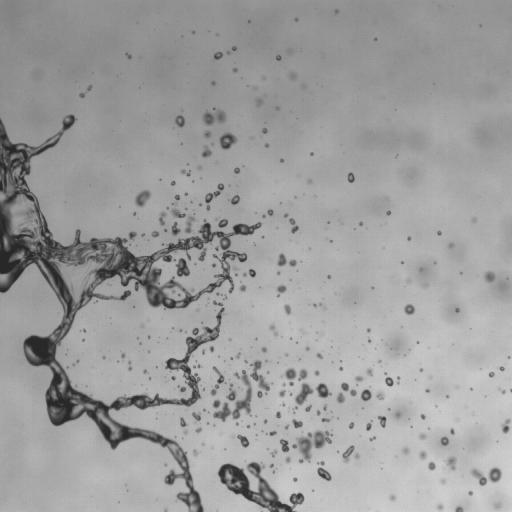droplet: (291, 429, 333, 463), (470, 466, 502, 486), (202, 107, 226, 125), (219, 132, 237, 149), (134, 189, 151, 207), (276, 253, 297, 267), (441, 456, 457, 473), (317, 467, 331, 481), (237, 433, 250, 447), (214, 216, 229, 228), (289, 218, 300, 233), (360, 388, 372, 401), (170, 221, 180, 236), (500, 418, 510, 433), (279, 438, 289, 453), (483, 270, 495, 282), (158, 211, 167, 226), (174, 115, 185, 127), (201, 145, 212, 157), (227, 195, 240, 205), (276, 284, 286, 297), (404, 304, 415, 315), (213, 124, 224, 135), (7, 132, 18, 143), (31, 136, 42, 147), (210, 142, 221, 153), (28, 155, 39, 166), (164, 214, 175, 225), (261, 217, 272, 228), (189, 226, 200, 237), (230, 233, 241, 244), (59, 235, 70, 246), (150, 240, 161, 251), (227, 257, 238, 268), (26, 262, 37, 273), (95, 282, 106, 293), (46, 288, 57, 299), (84, 299, 95, 310), (54, 307, 65, 318), (74, 308, 85, 319), (71, 316, 82, 327), (37, 327, 48, 338), (53, 349, 64, 360), (232, 360, 243, 371), (39, 364, 50, 375), (196, 367, 207, 378), (65, 368, 76, 379), (307, 376, 318, 387), (328, 383, 339, 394), (216, 389, 227, 400), (199, 391, 210, 402), (307, 391, 318, 402), (325, 394, 336, 405), (191, 400, 202, 411), (179, 405, 190, 416), (201, 411, 212, 422), (281, 412, 292, 423), (125, 417, 136, 428), (415, 420, 426, 431), (89, 424, 100, 435), (126, 436, 137, 447), (414, 439, 425, 450), (441, 446, 452, 457), (289, 447, 300, 458), (236, 459, 247, 470), (446, 470, 457, 481), (174, 478, 185, 489), (278, 492, 289, 503), (335, 391, 345, 403), (377, 416, 387, 428), (242, 268, 255, 277), (354, 375, 364, 386), (291, 418, 302, 428), (192, 411, 201, 423), (283, 304, 292, 315), (238, 280, 246, 292), (375, 390, 384, 400), (440, 436, 449, 446), (418, 450, 427, 460), (180, 169, 191, 177), (211, 133, 220, 142), (175, 173, 184, 182), (28, 184, 37, 193), (172, 184, 181, 193), (176, 218, 185, 227), (209, 222, 218, 231), (223, 224, 232, 233), (177, 230, 186, 239), (51, 232, 60, 241), (79, 233, 88, 242), (169, 234, 178, 243), (240, 261, 249, 270), (142, 339, 151, 348), (310, 343, 319, 352), (191, 348, 200, 357), (255, 351, 264, 360), (132, 364, 141, 373), (250, 380, 259, 389), (292, 384, 301, 393), (269, 385, 278, 394), (182, 389, 191, 398), (173, 390, 182, 399), (235, 391, 244, 400), (286, 396, 295, 405), (184, 414, 193, 423), (371, 419, 380, 428), (89, 422, 98, 431), (317, 422, 326, 431), (308, 445, 317, 454), (410, 448, 419, 457), (276, 450, 285, 459), (213, 51, 223, 59), (365, 367, 373, 377), (391, 411, 401, 419), (288, 72, 297, 80), (255, 97, 263, 106), (203, 130, 212, 138), (428, 461, 436, 470), (347, 172, 354, 182), (505, 360, 511, 371), (178, 505, 189, 511), (292, 505, 303, 511), (443, 505, 454, 511), (278, 389, 286, 397), (493, 501, 501, 509), (418, 432, 427, 439), (402, 446, 409, 455), (436, 502, 443, 511), (267, 209, 274, 217), (151, 230, 159, 237), (497, 387, 505, 394), (270, 449, 277, 457), (388, 494, 396, 501), (439, 478, 448, 484), (454, 505, 463, 511), (316, 352, 323, 359), (274, 411, 281, 418), (192, 449, 199, 456), (353, 452, 360, 459), (255, 90, 262, 97), (84, 91, 91, 98), (216, 103, 223, 110), (224, 112, 231, 119), (206, 124, 213, 131), (229, 128, 236, 135), (203, 137, 210, 144), (214, 141, 221, 148), (188, 163, 195, 170), (134, 187, 141, 194), (144, 198, 151, 205), (134, 205, 141, 212), (39, 206, 46, 213), (155, 224, 162, 231), (144, 228, 151, 235), (121, 231, 128, 238), (95, 232, 102, 239), (132, 250, 139, 257), (272, 254, 279, 261), (284, 254, 291, 261), (488, 265, 495, 272), (478, 270, 485, 277), (19, 271, 26, 278), (493, 273, 500, 280), (478, 275, 485, 282), (128, 278, 135, 285), (277, 278, 284, 285), (222, 279, 229, 286), (488, 280, 495, 287), (233, 281, 240, 288), (138, 285, 145, 292), (200, 292, 207, 299), (188, 300, 195, 307), (54, 318, 61, 325), (208, 321, 215, 328), (197, 327, 204, 334), (22, 331, 29, 338), (139, 334, 146, 341), (298, 341, 305, 348), (309, 348, 316, 355), (177, 352, 184, 359), (186, 360, 193, 367), (286, 361, 293, 368), (363, 361, 370, 368), (279, 366, 286, 373), (245, 367, 252, 374), (493, 368, 500, 375), (306, 369, 313, 376), (359, 370, 366, 377), (263, 376, 270, 383), (284, 384, 291, 391), (355, 387, 362, 394), (135, 388, 142, 395), (369, 388, 376, 395), (126, 390, 133, 397), (342, 390, 349, 397), (250, 391, 257, 398), (91, 393, 98, 400), (208, 395, 215, 402), (318, 396, 325, 403), (104, 398, 111, 405), (302, 399, 309, 406), (40, 401, 47, 408), (159, 403, 166, 410), (129, 404, 136, 411), (145, 405, 152, 412), (238, 407, 245, 414), (309, 407, 316, 414), (107, 408, 114, 415), (320, 410, 327, 417), (81, 412, 88, 419), (400, 412, 407, 419), (225, 414, 232, 421), (255, 417, 262, 424), (498, 417, 505, 424), (44, 418, 51, 425), (198, 419, 205, 426), (63, 420, 70, 427), (309, 426, 316, 433), (366, 429, 373, 436), (162, 431, 169, 438), (273, 433, 280, 440), (103, 440, 110, 447), (118, 440, 125, 447), (153, 441, 160, 448), (161, 446, 168, 453), (396, 449, 403, 456), (185, 452, 192, 459), (253, 456, 260, 463), (422, 458, 429, 465), (454, 460, 461, 467), (213, 463, 220, 470), (175, 466, 182, 473), (188, 466, 195, 473), (499, 466, 506, 473), (242, 468, 249, 475), (259, 470, 266, 477), (482, 470, 489, 477), (472, 476, 479, 483), (485, 479, 492, 486), (268, 481, 275, 488), (236, 493, 243, 500), (199, 498, 206, 505), (248, 500, 255, 507), (285, 455, 291, 463), (125, 52, 131, 59), (261, 128, 267, 135), (211, 262, 217, 269), (405, 277, 411, 284), (176, 327, 183, 333), (261, 346, 267, 353), (305, 404, 311, 411), (348, 422, 354, 429), (195, 427, 202, 433), (209, 345, 214, 353), (234, 167, 240, 173), (448, 242, 454, 248), (488, 371, 494, 377), (279, 401, 285, 407), (0, 191, 4, 200), (498, 366, 505, 371), (396, 376, 400, 384), (323, 403, 327, 411), (276, 54, 281, 60), (196, 165, 202, 170), (471, 217, 476, 223), (422, 283, 428, 288), (143, 369, 149, 374), (314, 370, 319, 376), (420, 413, 425, 419), (229, 434, 235, 439), (369, 436, 375, 441), (450, 427, 454, 434), (317, 461, 324, 465), (507, 421, 511, 428), (202, 507, 209, 511), (496, 507, 503, 511), (334, 9, 339, 14), (232, 67, 237, 72), (264, 143, 269, 148), (307, 179, 312, 184), (170, 180, 175, 185), (386, 210, 391, 215), (358, 221, 363, 226), (276, 270, 281, 275), (326, 274, 331, 279), (305, 346, 310, 351), (171, 375, 176, 380), (425, 388, 430, 393), (454, 417, 459, 422), (284, 424, 289, 429), (292, 477, 297, 482), (468, 490, 473, 495), (230, 41, 235, 46), (221, 49, 226, 54), (222, 52, 227, 57), (217, 57, 222, 62), (227, 67, 232, 72), (234, 71, 239, 76), (80, 87, 85, 92), (77, 96, 82, 101), (68, 109, 73, 114), (209, 109, 214, 114), (176, 110, 181, 115), (181, 112, 186, 117), (171, 113, 176, 118), (1, 119, 6, 124), (183, 120, 188, 125), (58, 122, 63, 127), (173, 123, 178, 128), (264, 123, 269, 128), (69, 124, 74, 129), (257, 126, 262, 131), (59, 135, 64, 140), (229, 143, 234, 148), (208, 145, 213, 150), (45, 147, 50, 152), (199, 147, 204, 152), (223, 148, 228, 153), (41, 150, 46, 155), (204, 155, 209, 160), (29, 167, 34, 172), (239, 167, 244, 172), (343, 170, 348, 175), (23, 174, 28, 179), (187, 175, 192, 180), (194, 177, 199, 182), (219, 189, 224, 194), (179, 193, 184, 198), (228, 193, 233, 198), (170, 196, 175, 201), (193, 200, 198, 205), (208, 200, 213, 205), (202, 201, 207, 206), (168, 204, 173, 209), (266, 204, 271, 209), (179, 208, 184, 213), (184, 209, 189, 214), (162, 216, 167, 221), (174, 216, 179, 221), (258, 217, 263, 222), (154, 219, 159, 224), (234, 219, 239, 224), (199, 220, 204, 225), (294, 220, 299, 225), (246, 221, 251, 226), (175, 223, 180, 228), (288, 223, 293, 228), (46, 224, 51, 229), (356, 225, 361, 230), (219, 226, 224, 231), (127, 227, 132, 232), (166, 227, 171, 232), (253, 228, 258, 233), (186, 232, 191, 237), (245, 233, 250, 238), (110, 234, 115, 239), (133, 235, 138, 240), (228, 235, 233, 240), (172, 239, 177, 244), (227, 245, 232, 250), (146, 250, 151, 255), (225, 256, 230, 261), (233, 256, 238, 261), (294, 256, 299, 261), (294, 263, 299, 268), (291, 265, 296, 270), (237, 270, 242, 275), (228, 271, 233, 276), (245, 273, 250, 278), (40, 276, 45, 281), (104, 277, 109, 282), (123, 285, 128, 290), (285, 285, 290, 290), (213, 286, 218, 291), (244, 287, 249, 292), (92, 288, 97, 293), (273, 289, 278, 294), (118, 290, 123, 295), (240, 290, 245, 295), (104, 291, 109, 296), (279, 291, 284, 296), (226, 292, 231, 297), (125, 295, 130, 300), (90, 296, 95, 301), (107, 298, 112, 303), (407, 299, 412, 304), (401, 301, 406, 306), (413, 304, 418, 309), (215, 305, 220, 310), (315, 305, 320, 310), (458, 305, 463, 310), (289, 306, 294, 311), (399, 306, 404, 311), (165, 307, 170, 312), (170, 307, 175, 312), (280, 308, 285, 313), (413, 308, 418, 313), (212, 310, 217, 315), (402, 312, 407, 317), (287, 313, 292, 318), (408, 313, 413, 318), (220, 315, 225, 320), (265, 321, 270, 326), (218, 324, 223, 329), (274, 326, 279, 331), (68, 327, 73, 332), (268, 329, 273, 334), (367, 331, 372, 336), (80, 332, 85, 337), (190, 333, 195, 338), (291, 336, 296, 341), (60, 338, 65, 343), (197, 344, 202, 349), (265, 344, 270, 349), (256, 346, 261, 351), (116, 354, 121, 359), (239, 354, 244, 359), (21, 355, 26, 360), (163, 355, 168, 360), (123, 356, 128, 361), (314, 356, 319, 361), (248, 358, 253, 363), (23, 359, 28, 364), (336, 361, 341, 366), (130, 362, 135, 367), (61, 363, 66, 368), (30, 364, 35, 369), (217, 366, 222, 371), (64, 368, 69, 373), (178, 368, 183, 373), (190, 368, 195, 373), (255, 369, 260, 374), (318, 369, 323, 374), (371, 369, 376, 374), (237, 371, 242, 376), (143, 373, 148, 378), (214, 374, 219, 379), (223, 376, 228, 381), (247, 376, 252, 381), (391, 376, 396, 381), (291, 377, 296, 382), (284, 378, 289, 383), (300, 378, 305, 383), (212, 379, 217, 384), (196, 381, 201, 386), (69, 382, 74, 387), (218, 382, 223, 387), (424, 383, 429, 388), (242, 384, 247, 389), (363, 384, 368, 389), (231, 385, 236, 390), (278, 385, 283, 390), (338, 387, 343, 392), (197, 388, 202, 393), (225, 389, 230, 394), (505, 389, 510, 394), (496, 390, 501, 395), (284, 391, 289, 396), (149, 393, 154, 398), (158, 393, 163, 398), (278, 396, 283, 401), (195, 398, 200, 403), (365, 399, 370, 404), (335, 401, 340, 406), (340, 401, 345, 406), (180, 403, 185, 408), (326, 405, 331, 410), (119, 406, 124, 411), (390, 408, 395, 413), (249, 409, 254, 414), (332, 411, 337, 416), (379, 411, 384, 416), (295, 416, 300, 421), (216, 417, 221, 422), (235, 417, 240, 422), (175, 418, 180, 423), (384, 419, 389, 424), (344, 421, 349, 426), (289, 422, 294, 427), (178, 425, 183, 430), (369, 426, 374, 431), (497, 426, 502, 431), (255, 428, 260, 433), (424, 429, 429, 434), (302, 432, 307, 437), (446, 433, 451, 438), (246, 435, 251, 440), (174, 437, 179, 442), (235, 438, 240, 443), (436, 440, 441, 445), (447, 440, 452, 445), (323, 441, 328, 446), (286, 442, 291, 447), (277, 443, 282, 448), (407, 444, 412, 449), (181, 446, 186, 451), (340, 447, 345, 452), (282, 451, 287, 456), (337, 452, 342, 457), (349, 452, 354, 457), (357, 457, 362, 462), (246, 458, 251, 463), (222, 459, 227, 464), (302, 459, 307, 464), (433, 460, 438, 465), (342, 462, 347, 467), (489, 463, 494, 468), (321, 464, 326, 469), (496, 464, 501, 469), (164, 469, 169, 474), (449, 469, 454, 474), (441, 473, 446, 478), (215, 475, 220, 480), (320, 477, 325, 482), (498, 477, 503, 482), (165, 483, 170, 488), (221, 483, 226, 488), (481, 484, 486, 489), (193, 485, 198, 490), (184, 487, 189, 492), (293, 489, 298, 494), (391, 489, 396, 494), (301, 490, 306, 495), (171, 494, 176, 499), (394, 497, 399, 502), (302, 498, 307, 503), (385, 498, 390, 503), (434, 499, 439, 504), (180, 501, 185, 506), (287, 501, 292, 506), (455, 307, 459, 313), (316, 409, 320, 415), (226, 50, 231, 54), (283, 213, 288, 217), (437, 230, 441, 235), (407, 236, 411, 241), (432, 260, 436, 265), (177, 293, 182, 297), (284, 352, 289, 356), (338, 366, 343, 370), (281, 382, 286, 386), (455, 384, 459, 389), (246, 423, 250, 428), (219, 431, 223, 436), (294, 17, 298, 21), (373, 37, 377, 41), (232, 46, 236, 50), (211, 81, 215, 85), (301, 84, 305, 88), (275, 106, 279, 110), (210, 142, 214, 146), (309, 152, 313, 156), (280, 158, 284, 162), (184, 192, 188, 196), (133, 211, 137, 215), (163, 228, 167, 232), (141, 233, 145, 237), (370, 286, 374, 290), (140, 323, 144, 327), (366, 328, 370, 332), (377, 359, 381, 363), (419, 368, 423, 372), (428, 375, 432, 379), (469, 387, 473, 391), (445, 394, 449, 398), (263, 419, 267, 423), (163, 462, 167, 466), (262, 75, 265, 80), (252, 86, 257, 89), (148, 375, 151, 380), (434, 508, 439, 511), (440, 508, 445, 511), (450, 508, 455, 511), (462, 508, 467, 511), (494, 508, 499, 511), (192, 30, 195, 34), (198, 203, 202, 206), (262, 214, 265, 218), (261, 235, 265, 238), (419, 267, 422, 271), (195, 308, 199, 311), (102, 355, 105, 359), (507, 355, 510, 359), (266, 370, 269, 374), (252, 422, 255, 426), (163, 508, 167, 511), (148, 334, 150, 339), (0, 291, 2, 296), (479, 24, 482, 27), (395, 154, 398, 157), (158, 178, 161, 181), (294, 195, 297, 198), (184, 207, 187, 210), (308, 247, 311, 250), (193, 262, 196, 265), (289, 278, 292, 281), (132, 305, 135, 308), (400, 325, 403, 328), (171, 326, 174, 329), (184, 330, 187, 333), (136, 336, 139, 339), (254, 337, 257, 340), (289, 337, 292, 340), (82, 338, 85, 341), (228, 338, 231, 341), (295, 340, 298, 343), (416, 340, 419, 343), (147, 350, 150, 353), (76, 359, 79, 362), (72, 363, 75, 366), (155, 365, 158, 368), (202, 388, 205, 391), (206, 421, 209, 424), (427, 427, 430, 430), (201, 442, 204, 445), (331, 10, 334, 13), (296, 15, 299, 18), (247, 16, 250, 19), (244, 19, 247, 22), (292, 20, 295, 23), (296, 20, 299, 23), (188, 31, 191, 34), (194, 31, 197, 34), (371, 35, 374, 38), (376, 36, 379, 39), (229, 48, 232, 51), (127, 51, 130, 54), (131, 54, 134, 57), (210, 54, 213, 57), (124, 55, 127, 58), (280, 55, 283, 58), (127, 58, 130, 61), (275, 59, 278, 62), (233, 64, 236, 67), (209, 78, 212, 81), (214, 79, 217, 82), (208, 82, 211, 85), (90, 87, 93, 90), (214, 105, 217, 108), (266, 127, 269, 130), (259, 131, 262, 134), (264, 132, 267, 135), (266, 140, 269, 143), (26, 142, 29, 145), (268, 144, 271, 147), (263, 146, 266, 149), (310, 148, 313, 151), (306, 152, 309, 155), (393, 152, 396, 155), (310, 155, 313, 158), (396, 155, 399, 158), (282, 156, 285, 159), (276, 158, 279, 161), (280, 161, 283, 164), (232, 165, 235, 168), (348, 169, 351, 172), (189, 171, 192, 174), (233, 172, 236, 175), (236, 172, 239, 175), (157, 175, 160, 178), (353, 175, 356, 178), (344, 176, 347, 179), (353, 178, 356, 181), (160, 179, 163, 182), (168, 179, 171, 182), (174, 179, 177, 182), (345, 179, 348, 182), (190, 182, 193, 185), (172, 184, 175, 187), (223, 185, 226, 188), (175, 191, 178, 194), (233, 192, 236, 195), (186, 194, 189, 197), (216, 194, 219, 197), (238, 194, 241, 197), (177, 199, 180, 202), (234, 203, 237, 206), (384, 208, 387, 211), (130, 210, 133, 213), (272, 210, 275, 213), (283, 210, 286, 213), (383, 211, 386, 214), (390, 211, 393, 214), (135, 212, 138, 215), (265, 213, 268, 216), (280, 213, 283, 216), (387, 214, 390, 217), (132, 215, 135, 218), (156, 215, 159, 218), (287, 215, 290, 218), (44, 216, 47, 219), (224, 216, 227, 219), (326, 217, 329, 220), (216, 219, 219, 222), (362, 222, 365, 225), (326, 223, 329, 226), (75, 226, 78, 229), (436, 227, 439, 230), (440, 229, 443, 232), (294, 230, 297, 233), (434, 232, 437, 235), (408, 233, 411, 236), (437, 234, 440, 237), (142, 235, 145, 238), (155, 235, 158, 238), (404, 235, 407, 238), (329, 236, 332, 239), (410, 236, 413, 239), (262, 237, 265, 240), (326, 239, 329, 242), (329, 242, 332, 245), (255, 243, 258, 246), (237, 250, 240, 253), (246, 256, 249, 259), (397, 260, 400, 263), (403, 260, 406, 263), (430, 260, 433, 263), (400, 263, 403, 266), (434, 263, 437, 266), (251, 266, 254, 269), (459, 268, 462, 271), (273, 271, 276, 274), (327, 271, 330, 274), (462, 271, 465, 274), (254, 273, 257, 276), (324, 273, 327, 276), (330, 274, 333, 277), (324, 276, 327, 279), (371, 283, 374, 286), (368, 287, 371, 290), (372, 288, 375, 291), (231, 289, 234, 292), (221, 294, 224, 297), (119, 299, 122, 302), (215, 299, 218, 302), (320, 299, 323, 302), (209, 300, 212, 303), (315, 301, 318, 304), (353, 303, 356, 306), (222, 304, 225, 307), (310, 304, 313, 307), (455, 304, 458, 307), (131, 307, 134, 310), (452, 307, 455, 310), (452, 310, 455, 313), (457, 311, 460, 314), (73, 315, 76, 318), (179, 325, 182, 328), (367, 325, 370, 328), (85, 328, 88, 331), (316, 328, 319, 331), (363, 328, 366, 331), (171, 329, 174, 332), (369, 329, 372, 332), (80, 330, 83, 333), (218, 331, 221, 334), (277, 332, 280, 335), (298, 332, 301, 335), (163, 334, 166, 337), (144, 335, 147, 338), (149, 335, 152, 338), (252, 335, 255, 338), (276, 335, 279, 338), (301, 335, 304, 338), (315, 335, 318, 338), (79, 336, 82, 339), (286, 336, 289, 339), (369, 336, 372, 339), (231, 337, 234, 340), (257, 337, 260, 340), (84, 338, 87, 341), (296, 338, 299, 341), (364, 338, 367, 341), (136, 339, 139, 342), (165, 339, 168, 342), (252, 339, 255, 342), (288, 339, 291, 342), (227, 340, 230, 343), (418, 340, 421, 343), (329, 342, 332, 345), (295, 343, 298, 346), (416, 343, 419, 346), (138, 344, 141, 347), (308, 344, 311, 347), (213, 346, 216, 349), (121, 349, 124, 352), (144, 349, 147, 352), (239, 349, 242, 352), (320, 352, 323, 355), (99, 353, 102, 356), (359, 355, 362, 358), (295, 356, 298, 359), (339, 356, 342, 359), (378, 356, 381, 359), (99, 357, 102, 360), (104, 357, 107, 360), (267, 357, 270, 360), (277, 358, 280, 361), (113, 359, 116, 362), (229, 359, 232, 362), (73, 360, 76, 363), (78, 360, 81, 363), (273, 361, 276, 364), (379, 361, 382, 364), (126, 363, 129, 366), (152, 364, 155, 367), (419, 364, 422, 367), (502, 364, 505, 367), (336, 365, 339, 368), (342, 366, 345, 369), (313, 367, 316, 370), (416, 367, 419, 370), (140, 368, 143, 371), (146, 368, 149, 371), (384, 368, 387, 371), (232, 369, 235, 372), (337, 369, 340, 372), (487, 369, 490, 372), (421, 370, 424, 373), (220, 371, 223, 374), (398, 373, 401, 376), (233, 375, 236, 378), (488, 376, 491, 379), (150, 377, 153, 380), (169, 378, 172, 381), (383, 382, 386, 385), (268, 384, 271, 387), (386, 385, 389, 388), (471, 385, 474, 388), (500, 386, 503, 389), (467, 388, 470, 391), (266, 390, 269, 393), (424, 391, 427, 394), (444, 391, 447, 394), (442, 395, 445, 398), (383, 396, 386, 399), (445, 397, 448, 400), (379, 399, 382, 402), (279, 401, 282, 404), (387, 404, 390, 407), (431, 405, 434, 408), (434, 407, 437, 410), (306, 410, 309, 413), (273, 411, 276, 414), (423, 412, 426, 415), (199, 414, 202, 417), (251, 414, 254, 417), (338, 415, 341, 418), (418, 416, 421, 419), (424, 416, 427, 419), (276, 417, 279, 420), (199, 418, 202, 421), (336, 419, 339, 422), (260, 420, 263, 423), (266, 420, 269, 423), (323, 420, 326, 423), (409, 422, 412, 425), (249, 423, 252, 426), (282, 423, 285, 426), (352, 425, 355, 428), (363, 425, 366, 428), (412, 425, 415, 428), (429, 425, 432, 428), (346, 427, 349, 430), (409, 427, 412, 430), (269, 428, 272, 431), (349, 428, 352, 431), (453, 429, 456, 432), (193, 431, 196, 434), (198, 431, 201, 434), (234, 433, 237, 436), (241, 433, 244, 436), (440, 434, 443, 437), (375, 435, 378, 438), (283, 437, 286, 440), (366, 438, 369, 441), (371, 439, 374, 442), (223, 444, 226, 447), (441, 444, 444, 447), (246, 445, 249, 448), (220, 446, 223, 449), (196, 448, 199, 451), (333, 450, 336, 453), (268, 454, 271, 457), (299, 462, 302, 465), (379, 463, 382, 466), (271, 466, 274, 469), (377, 467, 380, 470), (382, 467, 385, 470), (274, 469, 277, 472), (293, 474, 296, 477), (296, 478, 299, 481), (290, 479, 293, 482), (313, 487, 316, 490), (470, 488, 473, 491), (465, 490, 468, 493), (472, 491, 475, 494), (119, 500, 122, 503), (400, 261, 404, 263), (248, 20, 250, 23), (216, 33, 219, 35), (180, 142, 182, 145), (314, 194, 316, 197), (190, 200, 192, 203), (327, 221, 330, 223), (253, 242, 255, 245), (459, 272, 462, 274), (251, 305, 254, 307), (165, 337, 168, 339), (139, 341, 141, 344), (298, 358, 300, 361), (339, 360, 342, 362), (414, 378, 417, 380), (435, 404, 437, 407), (387, 408, 390, 410), (330, 410, 332, 413), (255, 414, 257, 417), (336, 417, 339, 419), (213, 423, 215, 426), (260, 430, 263, 432), (255, 438, 258, 440), (266, 448, 269, 450), (337, 450, 339, 453), (509, 354, 511, 357), (509, 385, 511, 388), (160, 509, 163, 511), (167, 509, 170, 511), (186, 163, 188, 165), (242, 165, 244, 167), (192, 180, 194, 182), (228, 184, 230, 186), (280, 202, 282, 204), (276, 227, 278, 229), (353, 228, 355, 230), (300, 260, 302, 262), (296, 269, 298, 271), (506, 277, 508, 279), (201, 321, 203, 323), (322, 320, 324, 322), (374, 347, 376, 349), (408, 349, 410, 351), (218, 355, 220, 357), (117, 360, 119, 362), (195, 360, 197, 362), (331, 361, 333, 363), (380, 365, 382, 367), (85, 385, 87, 387), (484, 395, 486, 397), (361, 407, 363, 409), (155, 417, 157, 419), (255, 434, 257, 436), (174, 436, 176, 438), (496, 440, 498, 442), (462, 447, 464, 449), (224, 448, 226, 450), (380, 467, 382, 469), (312, 489, 314, 491), (216, 509, 218, 511), (147, 239, 149, 240), (354, 302, 356, 303), (224, 360, 226, 361), (410, 426, 412, 427), (359, 435, 361, 436), (182, 437, 183, 439), (244, 460, 246, 461), (65, 354, 66, 355), (277, 362, 278, 363), (118, 502, 119, 503)
ligament: (212, 359, 273, 425), (166, 193, 197, 234), (205, 183, 224, 211), (210, 366, 226, 396), (341, 445, 354, 463), (341, 382, 357, 396), (79, 84, 92, 98), (179, 416, 188, 435), (308, 302, 327, 310), (268, 323, 278, 337), (384, 372, 393, 386), (216, 292, 227, 300), (230, 352, 241, 360), (366, 419, 373, 431), (321, 416, 333, 422), (265, 430, 277, 436), (299, 327, 307, 335), (202, 408, 209, 415), (193, 363, 202, 368), (128, 360, 132, 371), (205, 296, 209, 306), (121, 351, 125, 361), (264, 359, 272, 364), (201, 348, 206, 354), (79, 328, 86, 332), (326, 238, 332, 242), (288, 390, 292, 396), (244, 356, 247, 363), (238, 386, 243, 390), (106, 282, 112, 285), (368, 337, 371, 343), (287, 406, 290, 412), (509, 388, 511, 393), (211, 445, 213, 449), (199, 177, 202, 179), (166, 379, 168, 382), (281, 335, 282, 338)
